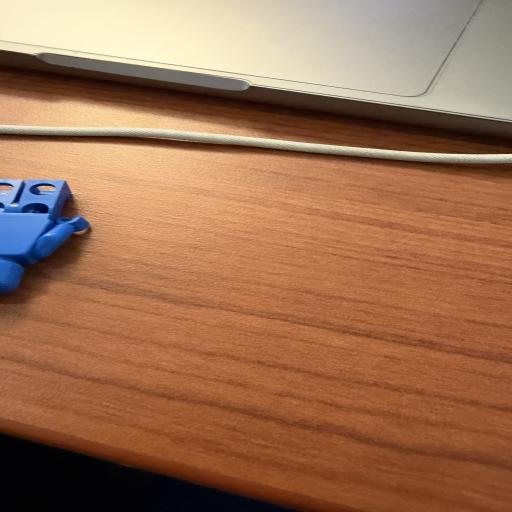Minifig: (0, 179, 92, 295)
